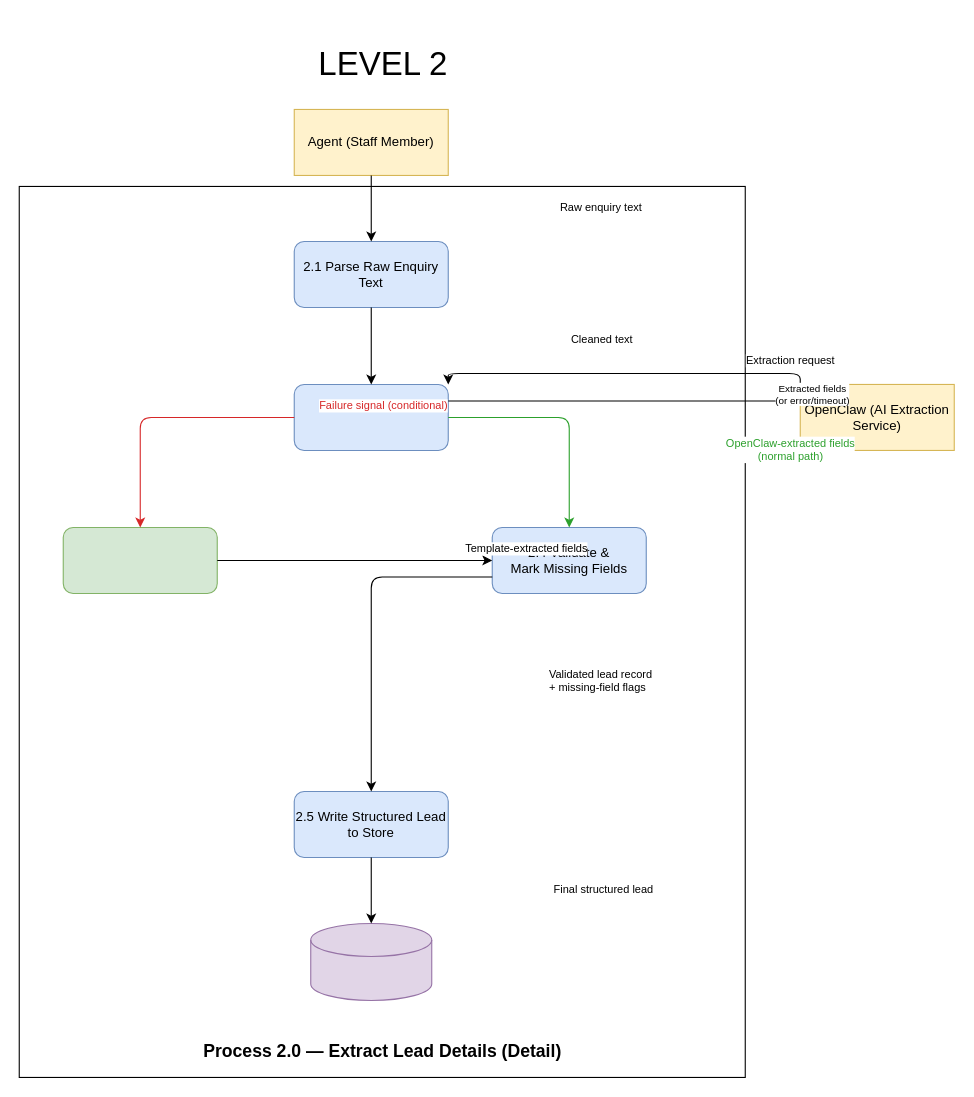
Some shapes in this 974 by 1097 pixel diagram are drawn without their labels. The box of each missing label's shape, as (x1, y1, x2, y2) in pixels:
2.2 Call OpenClaw Extraction: (293, 383, 448, 450)
2.3 Apply Fallback Rule-Based Template: (62, 526, 217, 593)
D1 Leads (SQLite): (310, 922, 432, 1000)
